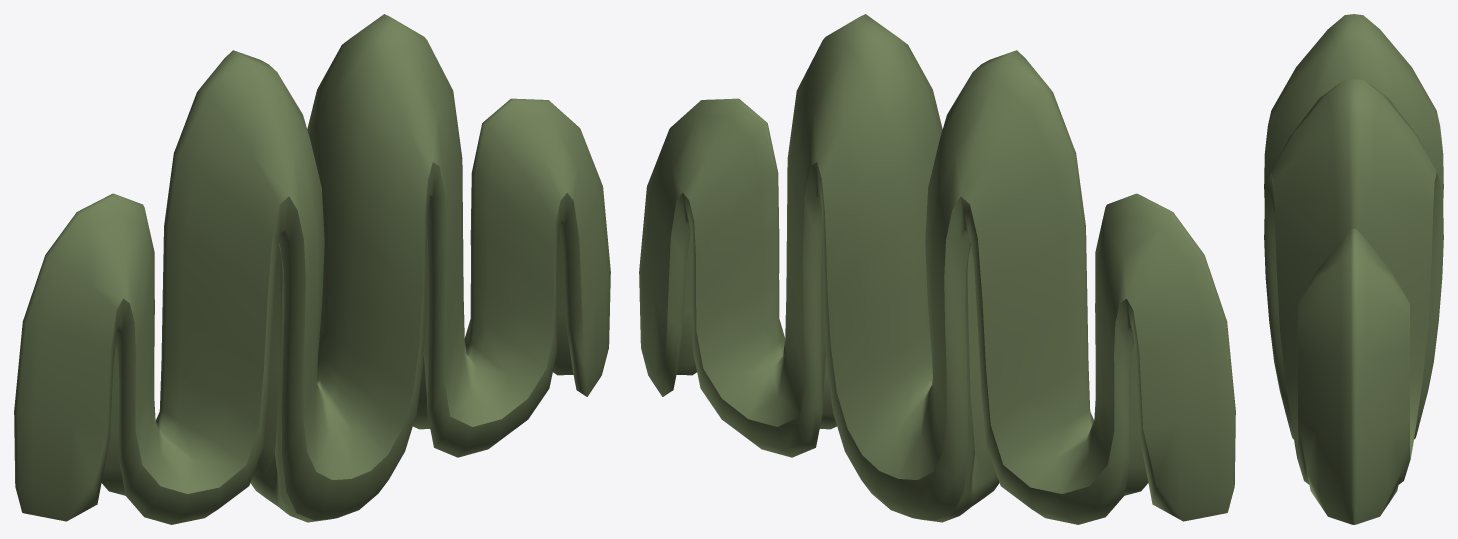
Rendered from quaternius-ultimate-space-pack-bush-1-transformed.glb.
The picture shows the model from 3 angles, left to right: view 1: azimuth 30°, elevation 25°; view 2: azimuth 150°, elevation 25°; view 3: azimuth 270°, elevation 25°; orthographic projection. The views are drawn at different scales.
Visible parts, largest first — view 1: Bush_1; view 2: Bush_1; view 3: Bush_1.
Part boxes in pixels (x1,y1,x2,y2): Bush_1: [14, 14, 610, 524]; Bush_1: [639, 14, 1235, 524]; Bush_1: [1264, 14, 1443, 524].
Size of the model in its own units: 3.26 by 2.48 by 0.9793.
Materials: 1 (1 with a texture image).
